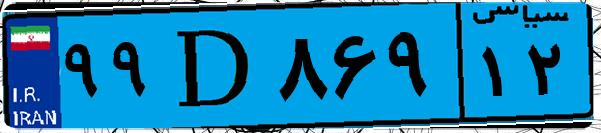1: (475, 38, 525, 113)
2: (525, 38, 570, 115)
6: (330, 28, 385, 110)
8: (270, 28, 330, 110)
9: (385, 28, 445, 110), (57, 26, 110, 100), (110, 28, 158, 98)
D: (158, 12, 270, 120)
